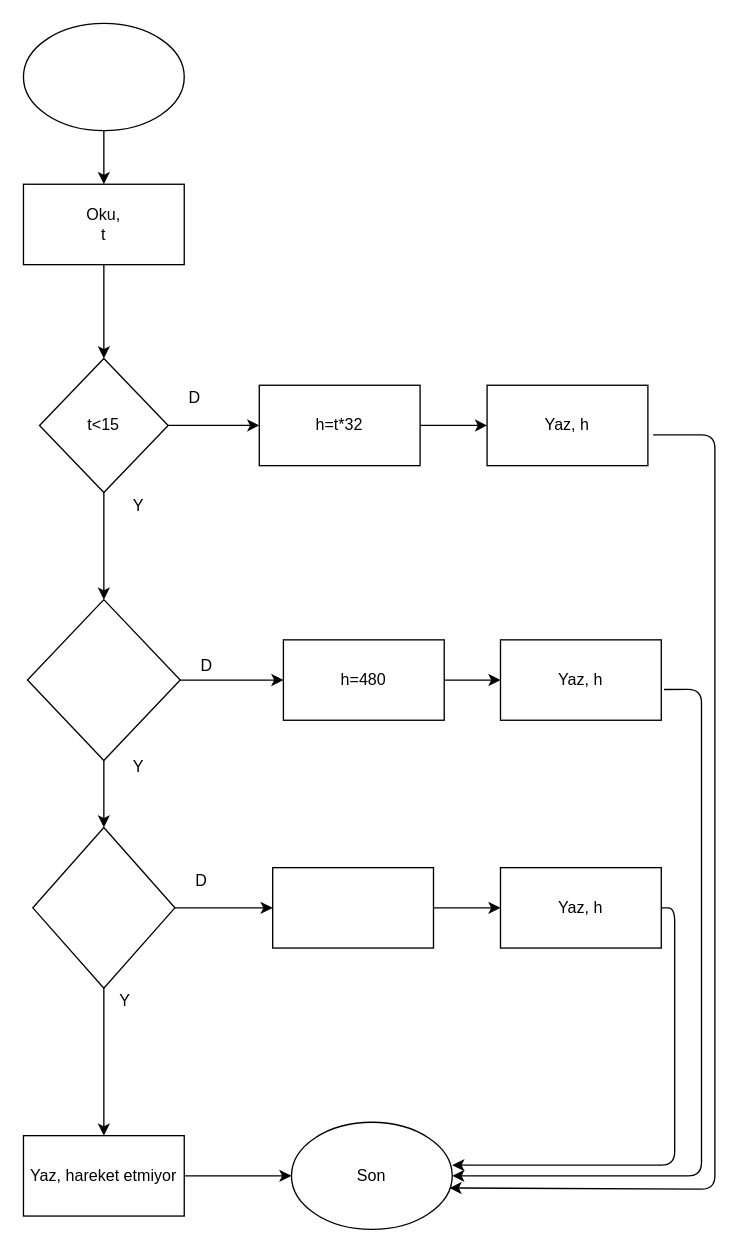
Some shapes in this 749 by 1253 pixel diagram are drawn without their labels. The centre of each missing label's shape, as x and y in pixels:
"15<=t || t<35" belongs at pixel 103 679.
"35<=t || t<50" belongs at pixel 103 907.
"Başla" belongs at pixel 103 76.
"t=t-35 t=t*32 h=480-t" belongs at pixel 352 907.
